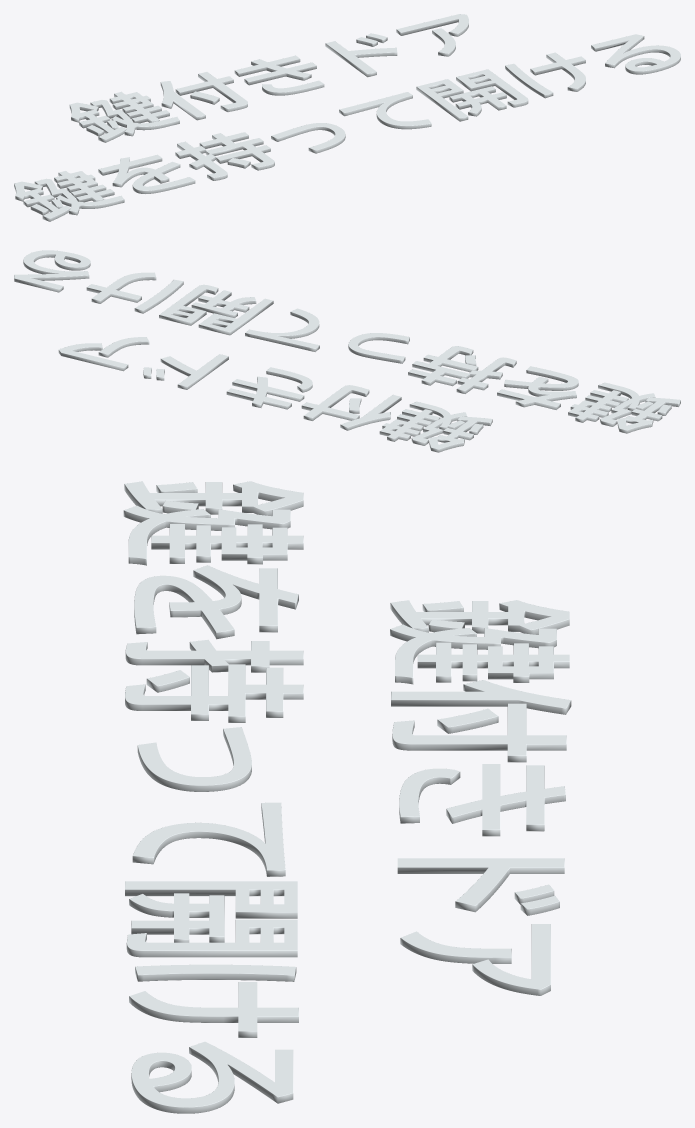
Rendered from stage2_locked_door.obj.
3 renders of one model, top to bottom at view 1: azimuth 30°, elevation 25°; view 2: azimuth 150°, elevation 25°; view 3: azimuth 270°, elevation 25°, orthographic. The views are drawn at different scales.
Visible parts, largest first — view 1: stage2_locked_door; view 2: stage2_locked_door; view 3: stage2_locked_door.
Boxes of the visible parts, left/top/right/bottom form: stage2_locked_door: left=14, top=14, right=680, bottom=221; stage2_locked_door: left=14, top=250, right=680, bottom=452; stage2_locked_door: left=123, top=481, right=571, bottom=1113.
Bounding box in the file's own units: 3.35 × 0.0165 × 1.01.
1 material, 1 textured.
